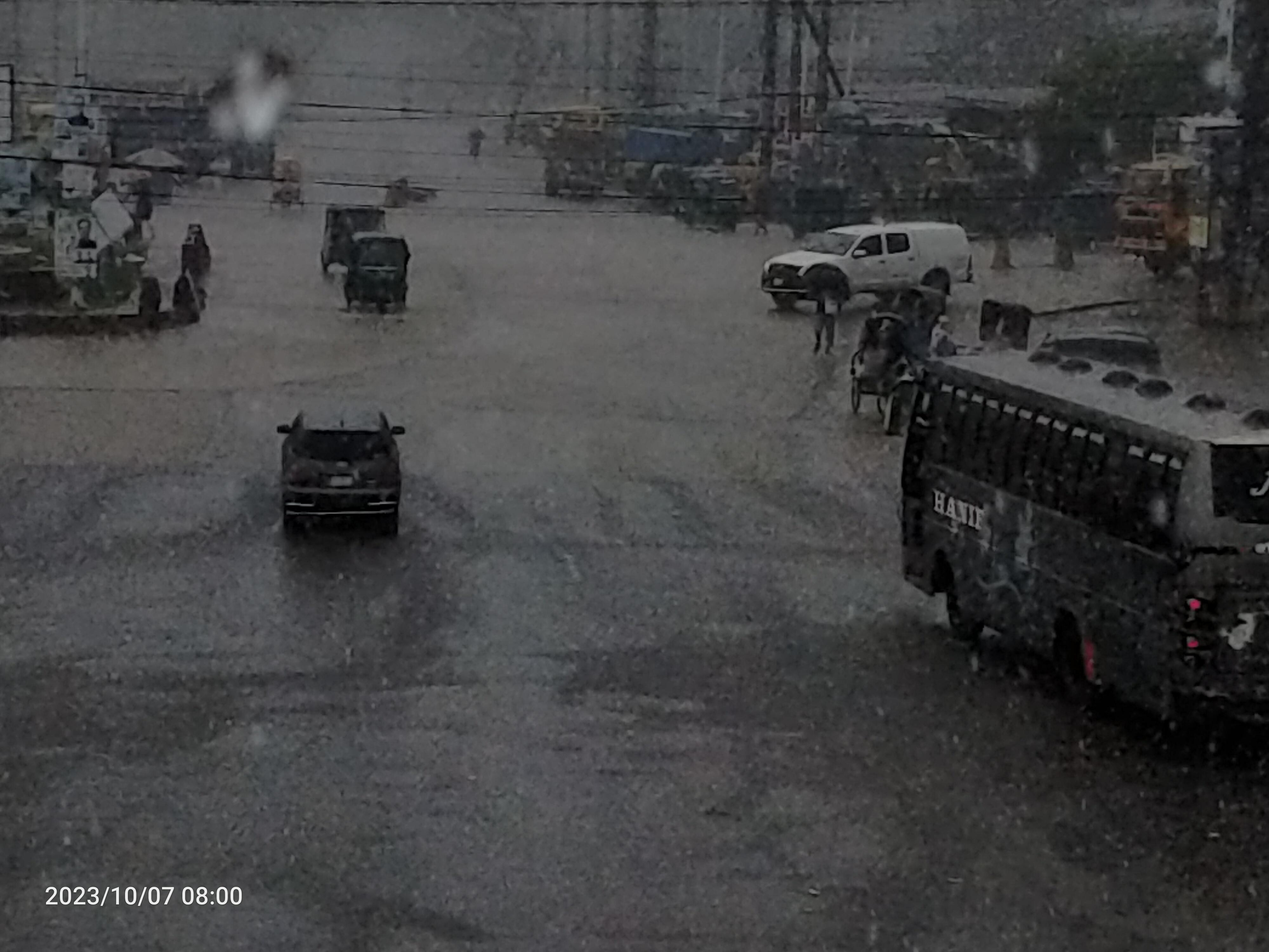Bus: (867, 334, 1269, 728)
Car: (261, 390, 434, 563), (740, 216, 986, 309), (840, 302, 920, 424)
Truck: (1110, 109, 1269, 293)
